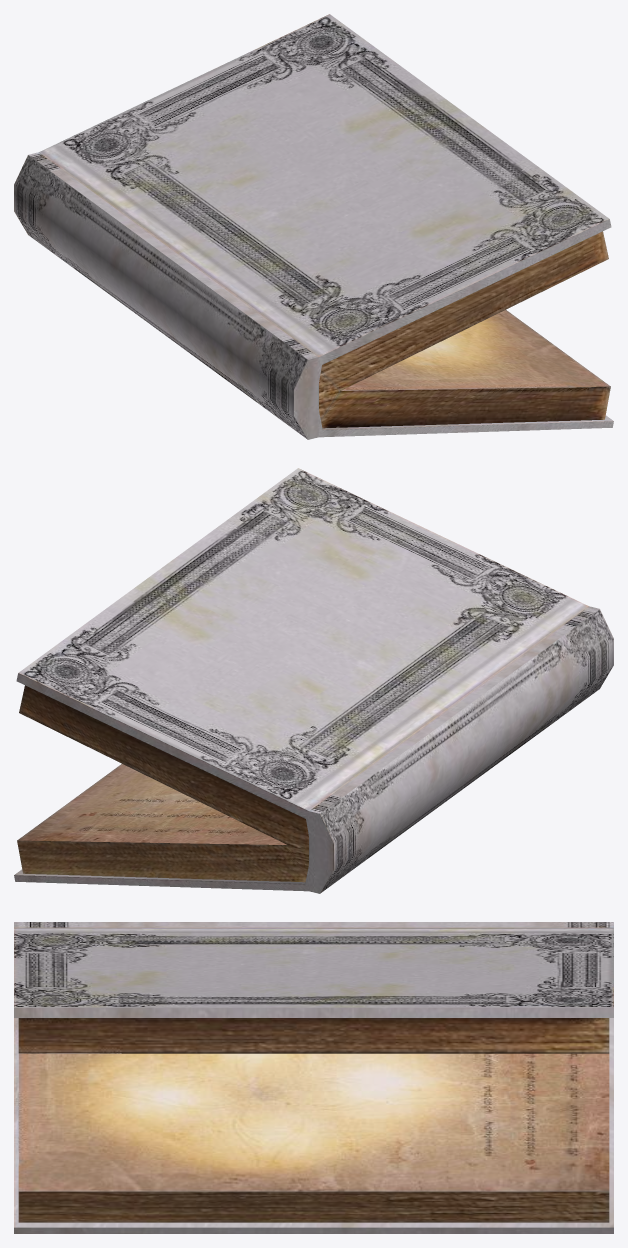
The model's file is Book_S.glb.
The picture shows the model from 3 angles, top to bottom: view 1: azimuth 30°, elevation 25°; view 2: azimuth 150°, elevation 25°; view 3: azimuth 270°, elevation 25°; orthographic projection. The views are drawn at different scales.
Visible parts, largest first — view 1: Book_S; view 2: Book_S; view 3: Book_S.
Part boxes in pixels (x1,y1,x2,y2): Book_S: (14,14,613,439); Book_S: (14,468,613,893); Book_S: (14,922,613,1233).
Size of the model in its own units: 0.2243 by 0.1404 by 0.34.
1 material, 1 textured.
